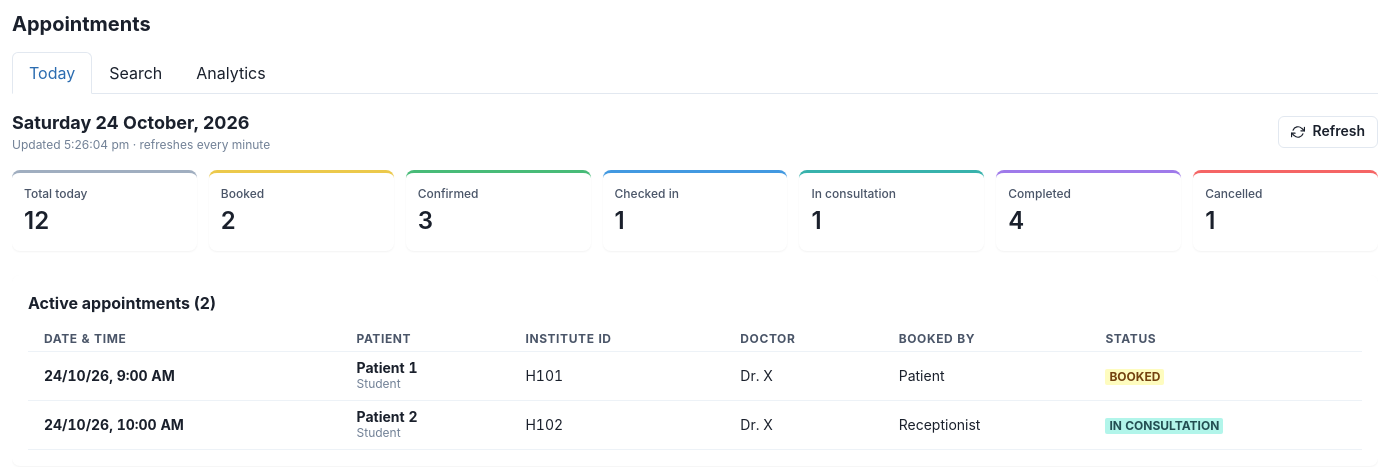
Test case: Admin Appointments - Today › Refresh button reloads
Expected: the text "Patient 1" is shown, [356,359,417,376]
Click the button "Refresh" at x=1328, y=132, box [1278,116,1378,148]
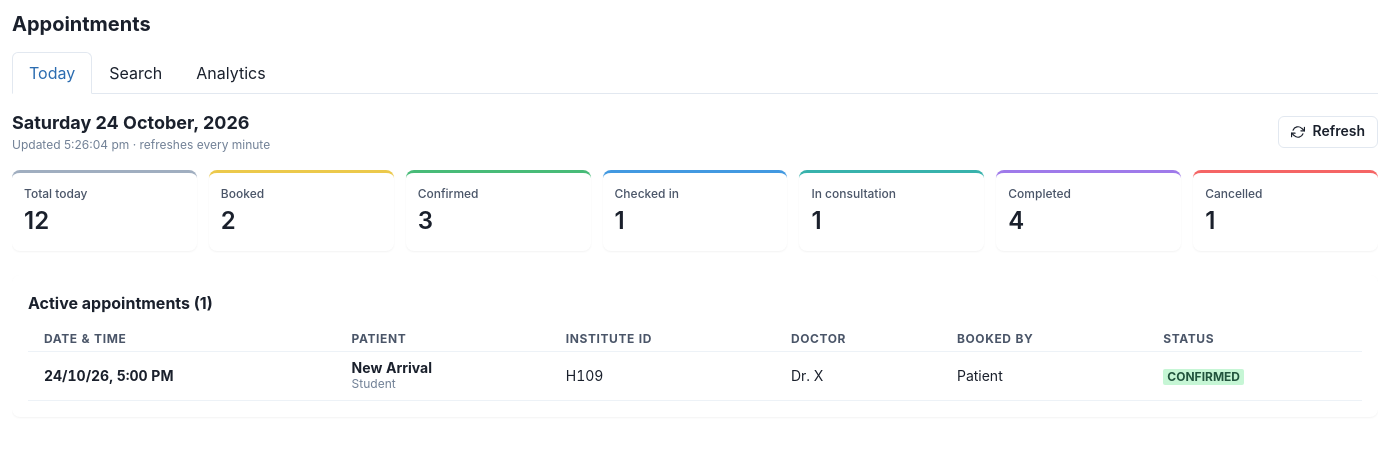
Expected: the text "New Arrival" is shown, [352,359,432,376]
